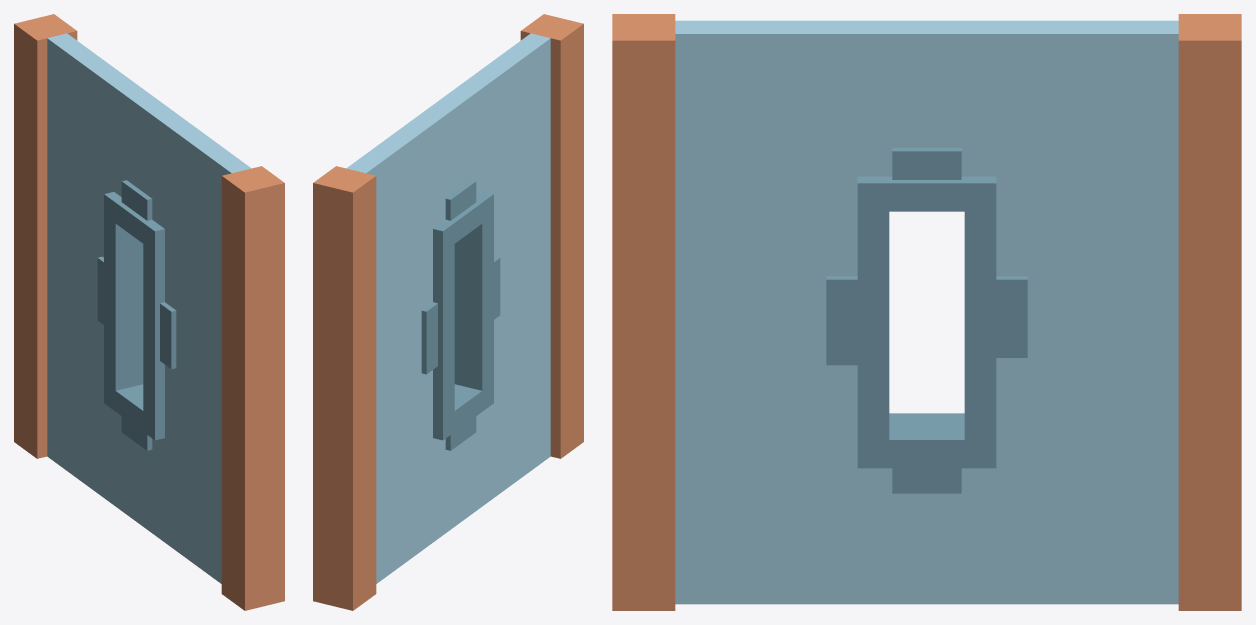
File: wallWindowStone.fbx
3 views of the same model, side by side, from view 1: azimuth 30°, elevation 25°; view 2: azimuth 150°, elevation 25°; view 3: azimuth 270°, elevation 25° (orthographic). The views are drawn at different scales.
Parts seen in each view (by area): view 1: wallWindowStone; view 2: wallWindowStone; view 3: wallWindowStone.
Part boxes in pixels (x1,y1,x2,y2): wallWindowStone: (14, 14, 284, 610); wallWindowStone: (313, 14, 583, 610); wallWindowStone: (612, 14, 1241, 610).
Bounding box in the file's own units: 1 × 10 × 10.
